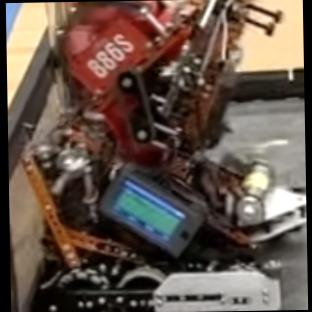Robot: (22, 0, 304, 309)
